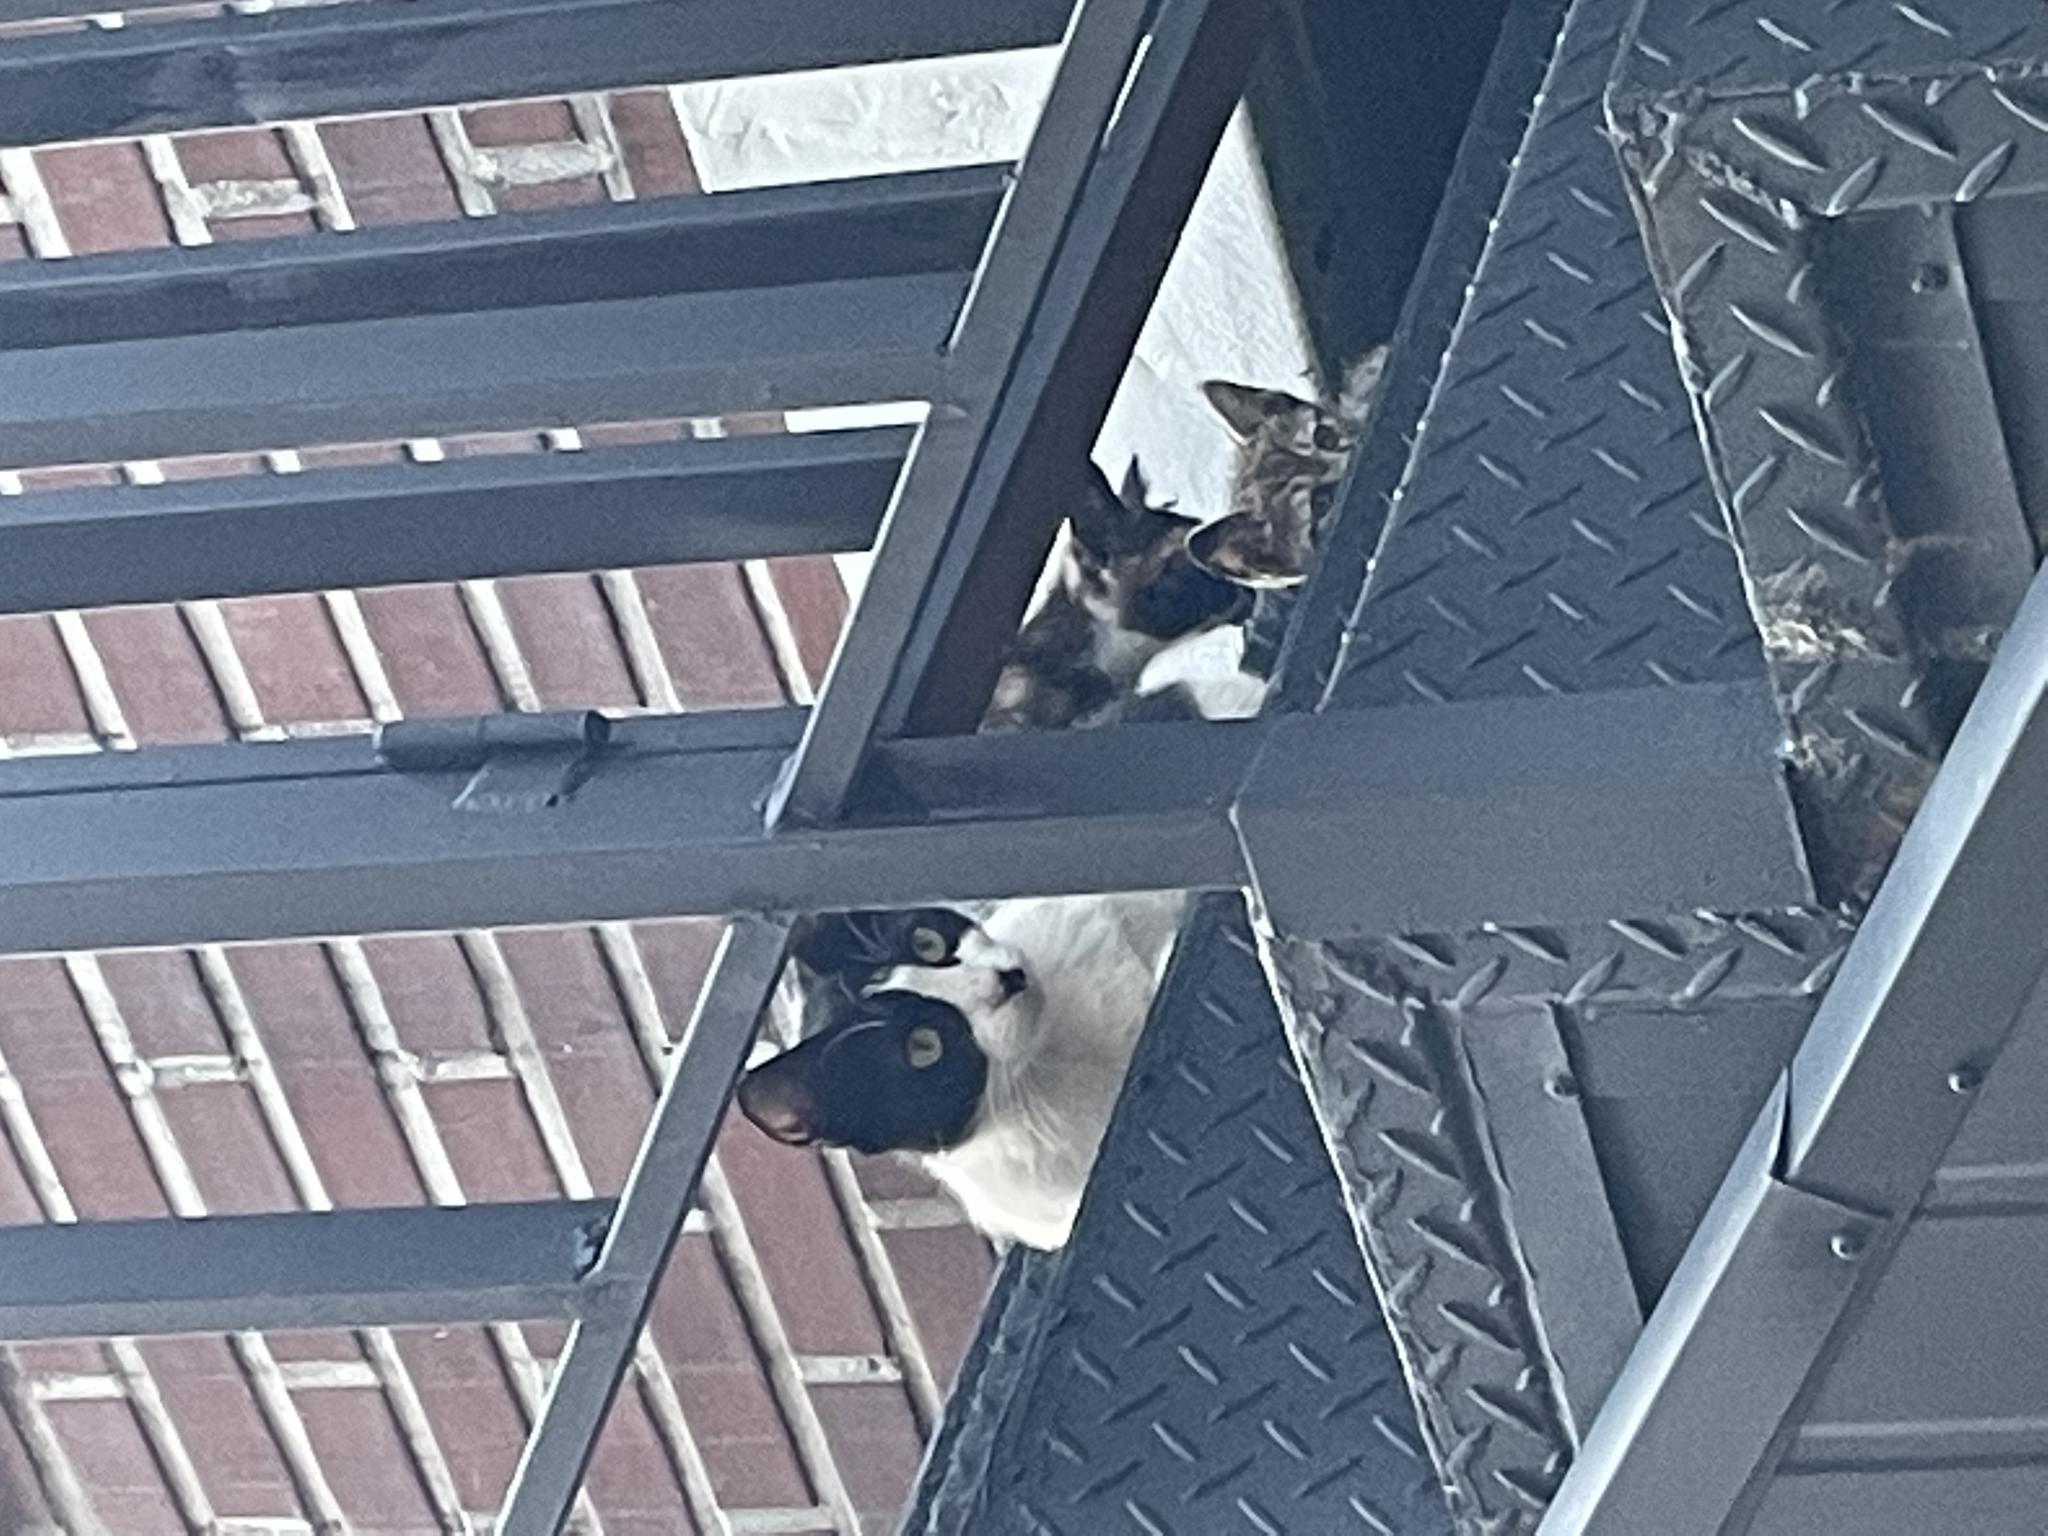cat: (268, 723, 664, 1177), (796, 956, 1084, 1248), (946, 1178, 1148, 1382)
